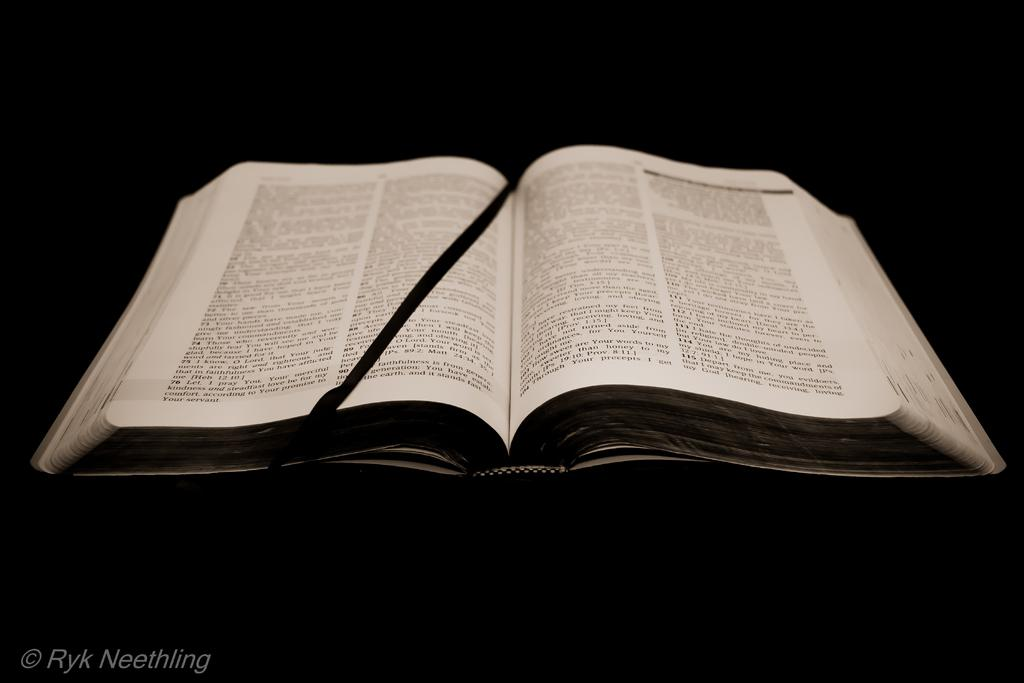book: (79, 169, 890, 493)
